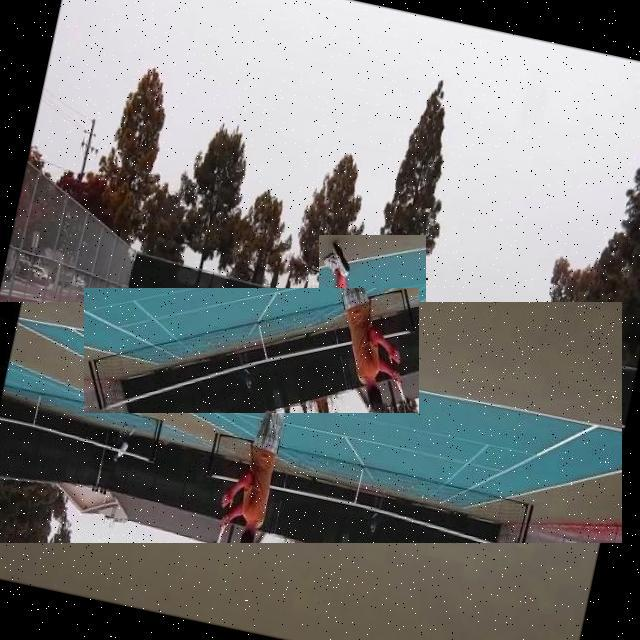court: (0, 302, 622, 543)
net: (84, 288, 419, 413)
player: (320, 235, 428, 509)
